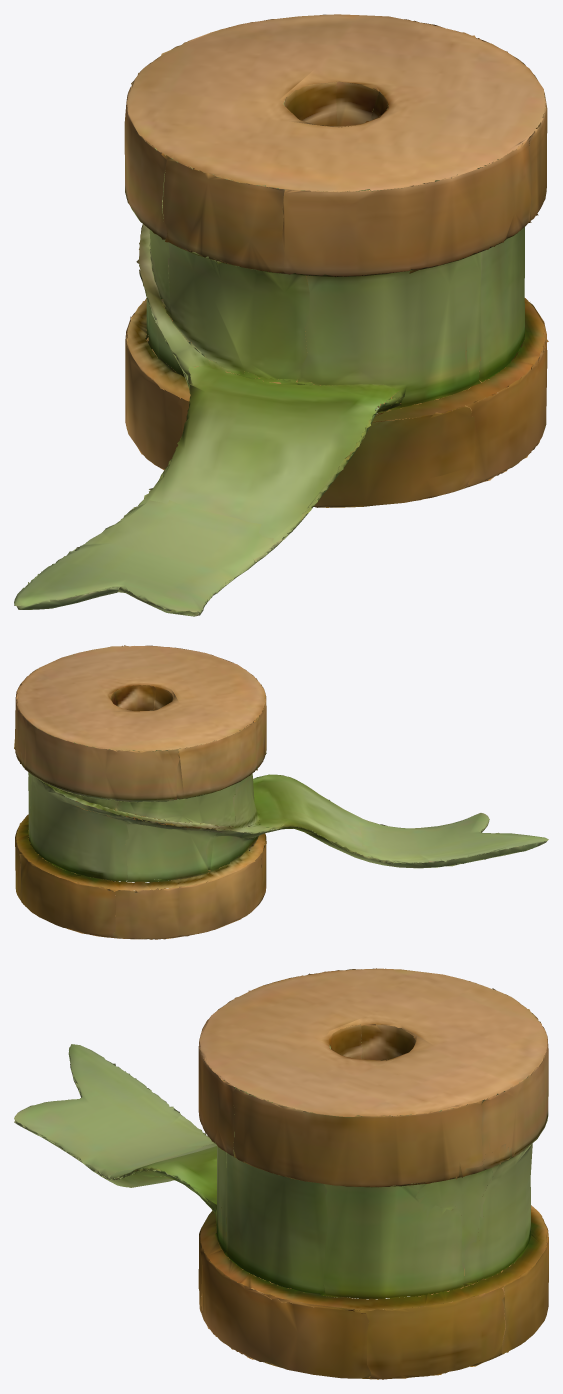
File: carrete.glb
3 renders of one model, top to bottom at view 1: azimuth 30°, elevation 25°; view 2: azimuth 150°, elevation 25°; view 3: azimuth 270°, elevation 25°, orthographic. The views are drawn at different scales.
Parts seen in each view (by area): view 1: node_0; view 2: node_0; view 3: node_0.
Boxes of the visible parts, x1,y1,x2,y2 form: node_0: (14,14,548,616); node_0: (14,645,548,939); node_0: (14,968,548,1379).
Size of the model in its own units: 0.2125 by 0.0946 by 0.1726.
Materials: 1 (1 with a texture image).
